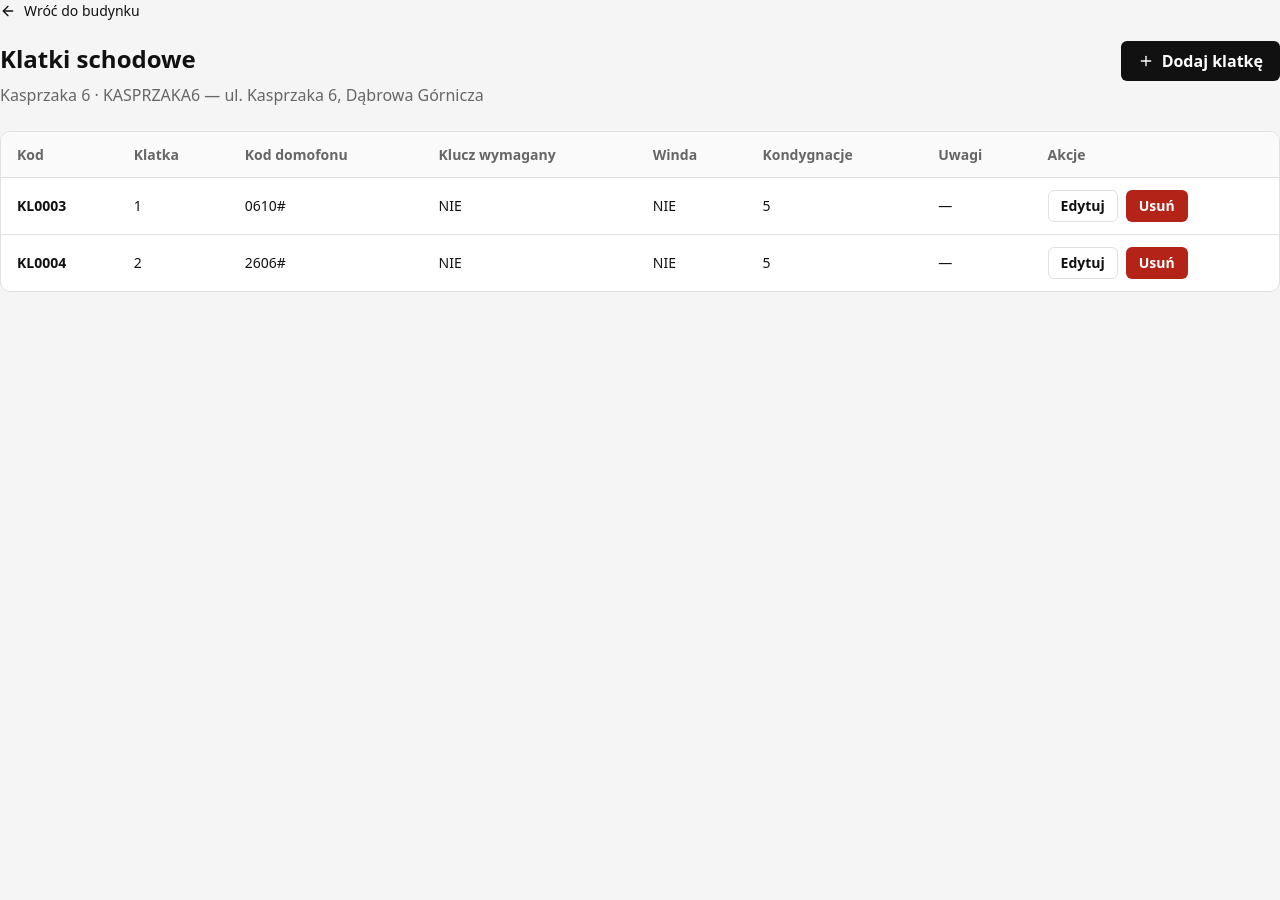
BuildingStaircasesPage › validates create form required fields
Expected: the text "KL0003" is shown, x1=1 y1=177 x2=118 y2=234
What coordinates should you click on to do the following:
click the button "Dodaj klatkę"
I would click on:
 (1200, 60)
Its box is x1=1121 y1=40 x2=1279 y2=80.
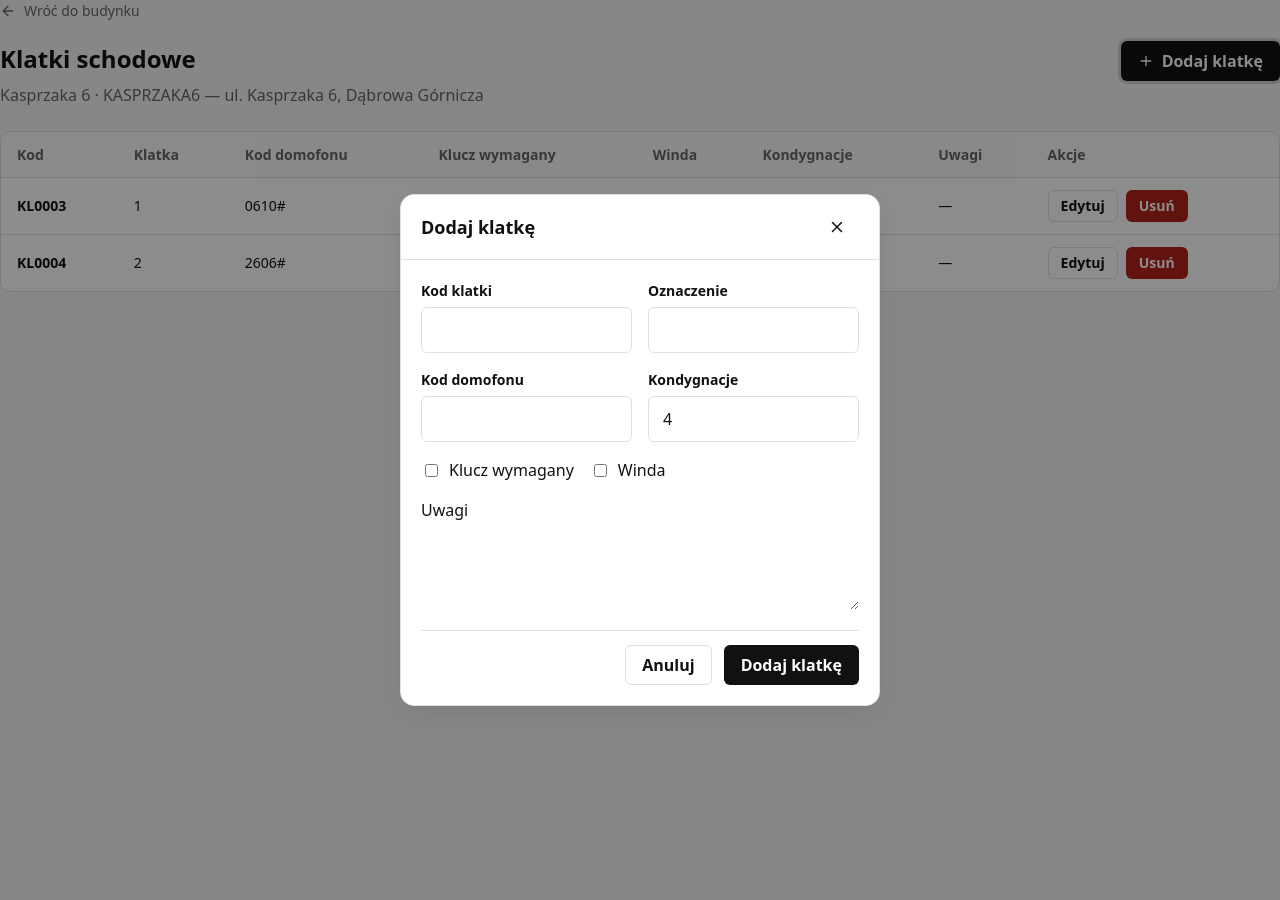
What coordinates should you click on to do the following:
click the button "Dodaj klatkę"
I would click on:
 (791, 665)
Its box is x1=724 y1=645 x2=859 y2=685.
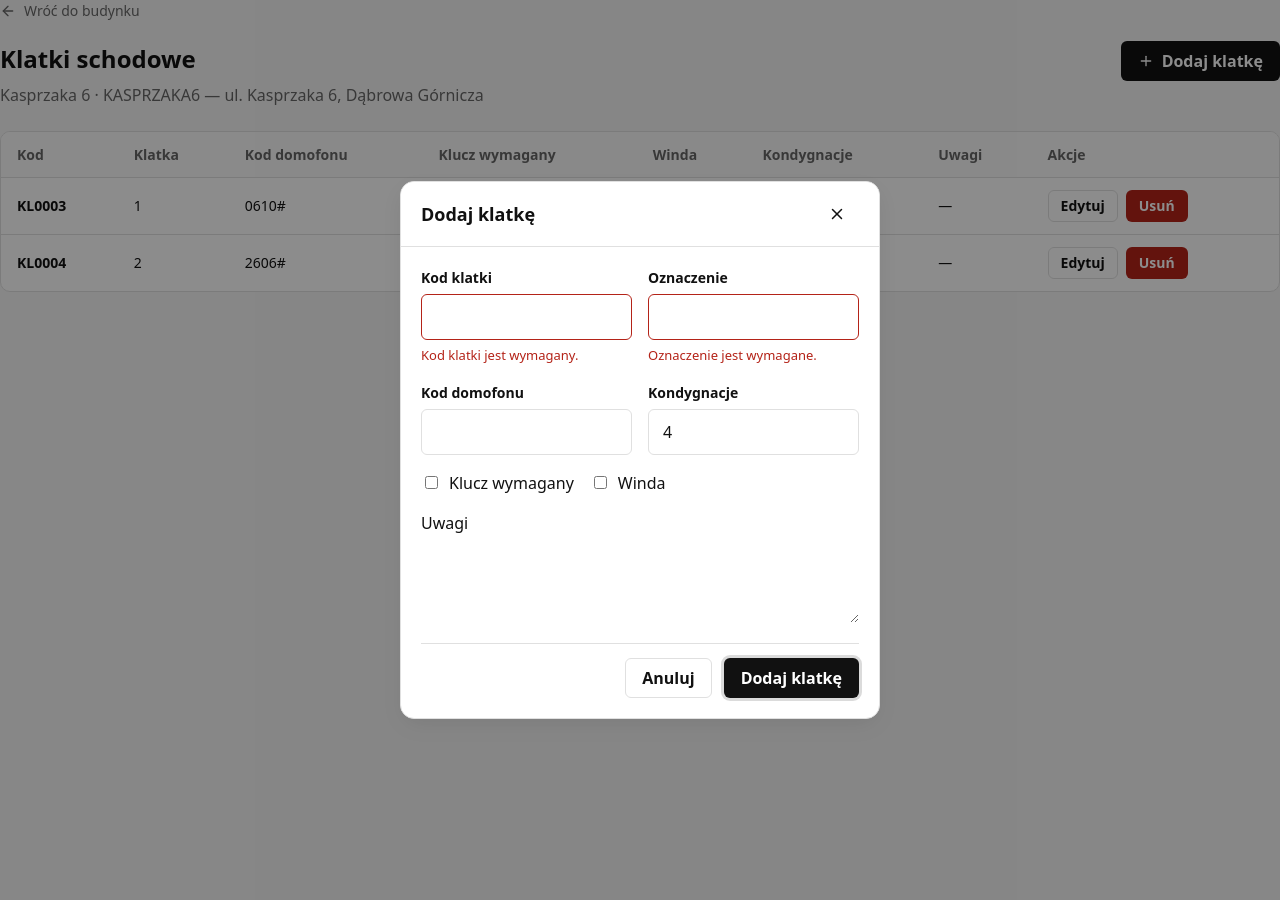
Expected: the text "Kod klatki jest wymagany." is shown, x1=421 y1=346 x2=578 y2=364
Expected: the text "Oznaczenie jest wymagane." is shown, x1=648 y1=346 x2=817 y2=364
